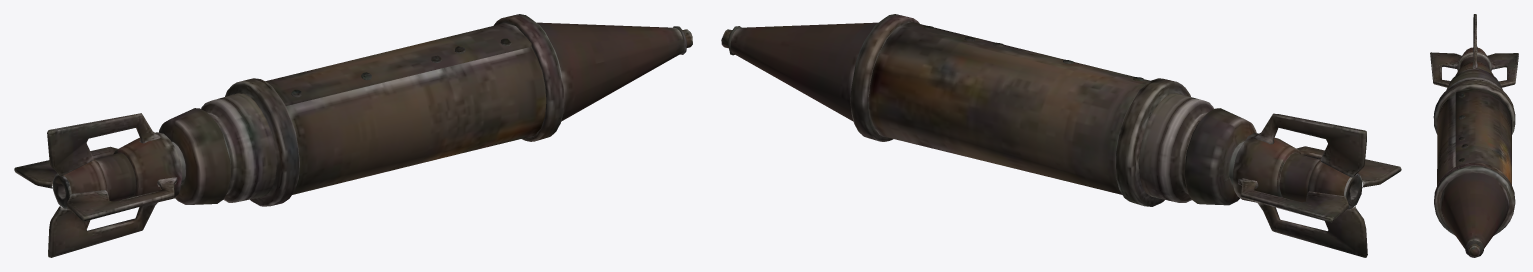
The model's file is rocket.worldmodel.glb.
The picture shows the model from 3 angles, left to right: view 1: azimuth 30°, elevation 25°; view 2: azimuth 150°, elevation 25°; view 3: azimuth 270°, elevation 25°; orthographic projection. The views are drawn at different scales.
Visible parts, largest first — view 1: rpg_LOD0; view 2: rpg_LOD0; view 3: rpg_LOD0.
Part boxes in pixels (x1,y1,x2,y2): rpg_LOD0: [14, 14, 692, 257]; rpg_LOD0: [721, 14, 1401, 257]; rpg_LOD0: [1430, 14, 1518, 257].
Size of the model in its own units: 0.6475 by 0.1221 by 0.1225.
Materials: 1 (1 with a texture image).
